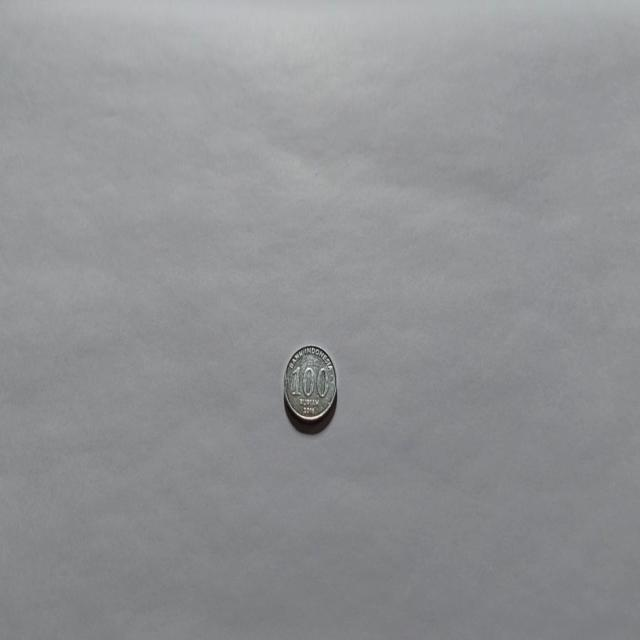seratus rupiah: (282, 342, 338, 430)
